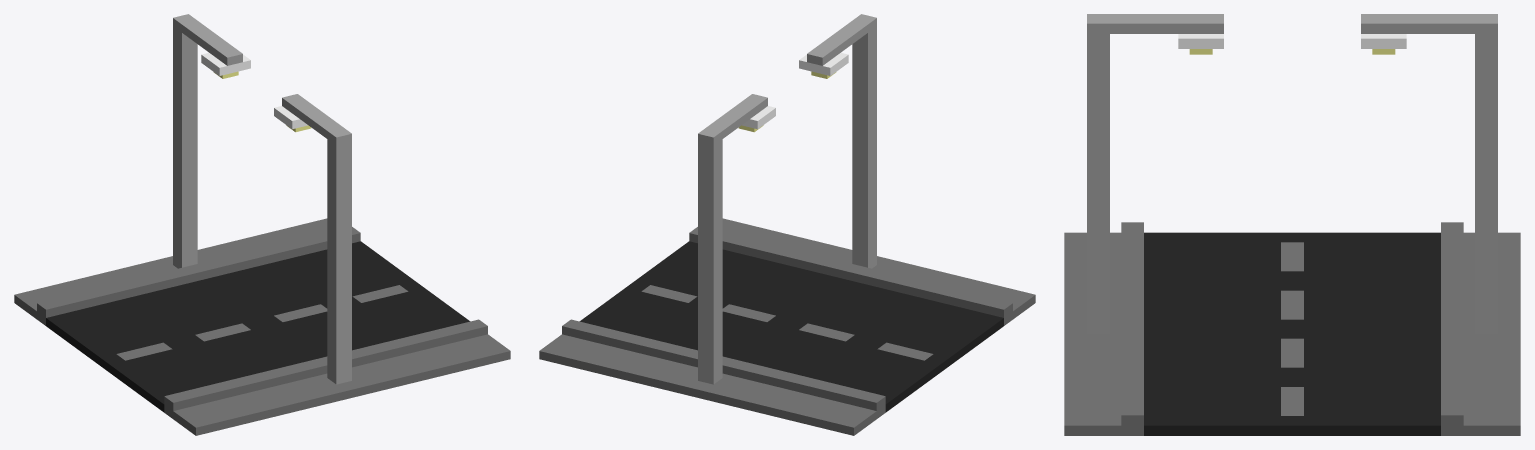
File: road1.obj
The picture shows the model from 3 angles, left to right: view 1: azimuth 30°, elevation 25°; view 2: azimuth 150°, elevation 25°; view 3: azimuth 270°, elevation 25°; orthographic projection. The views are drawn at different scales.
Bounding box in the file's own units: 4 × 3.1 × 4.
1 material, 1 textured.
